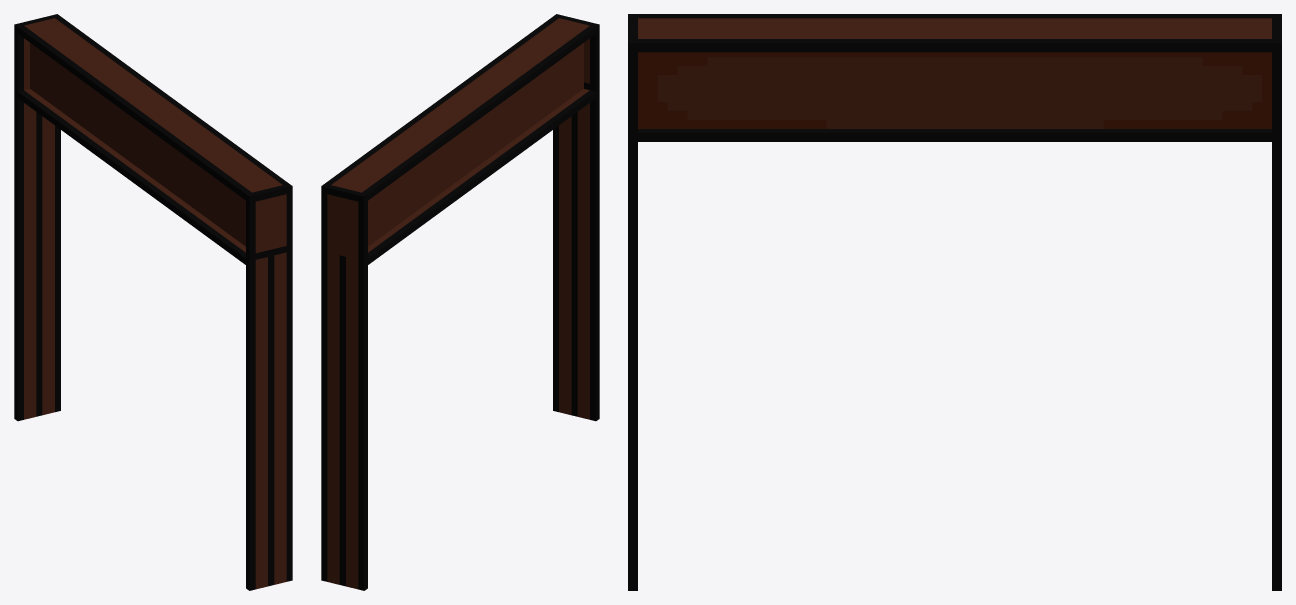
File: DoubleDoorFrame.obj
3 views of the same model, side by side, from view 1: azimuth 30°, elevation 25°; view 2: azimuth 150°, elevation 25°; view 3: azimuth 270°, elevation 25° (orthographic). The views are drawn at different scales.
Size of the model in its own units: 0.7 by 6.1 by 6.6.
Materials: 1 (1 with a texture image).
